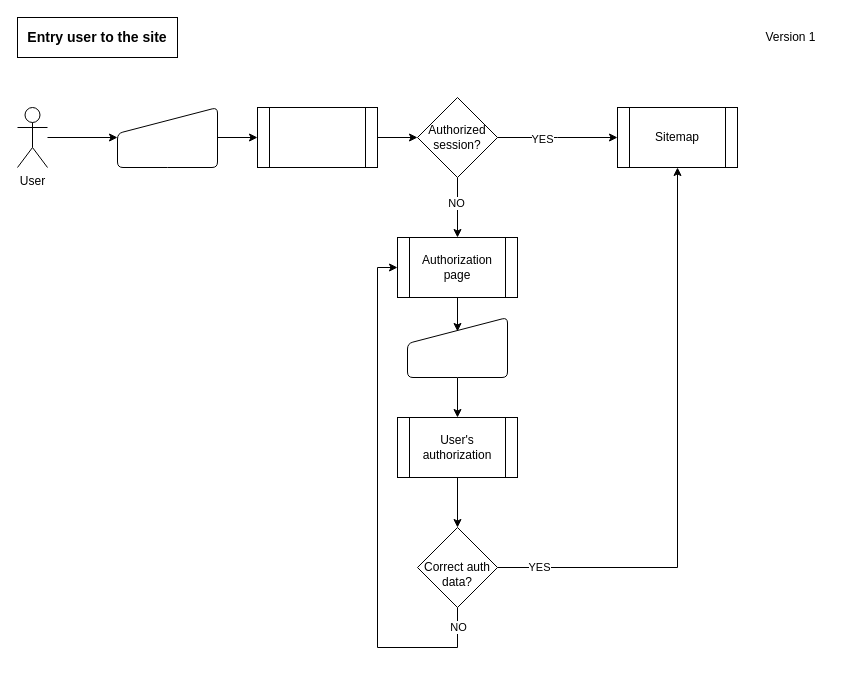
The diagram is 862 pixels wide and 673 high, and some of its shapes have lost their labels. The centre of each missing label's shape, as x and y in pixels:
Going to the site: the point at 167,137
Login: the point at 457,347
Session's Available check: the point at 317,137
